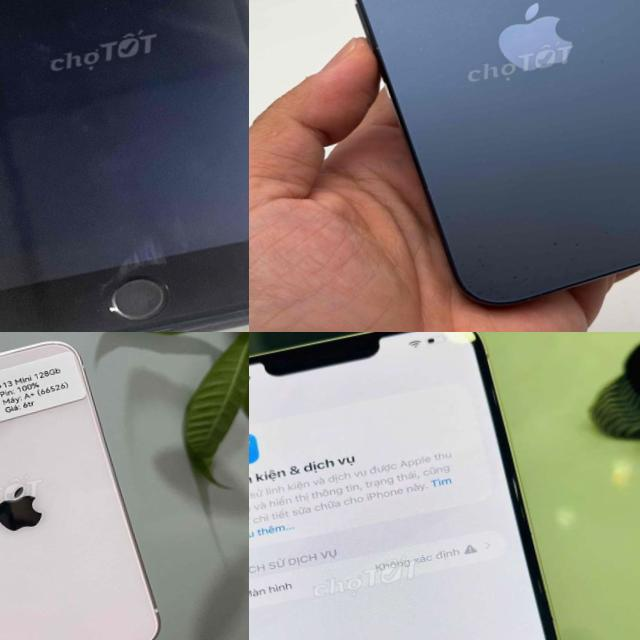gen_12_13: (0, 332, 168, 640)
gen_15: (301, 0, 640, 328)
gen_7_8: (0, 0, 249, 332)
scratch: (102, 300, 116, 316)
screen_defect: (438, 183, 640, 307)
